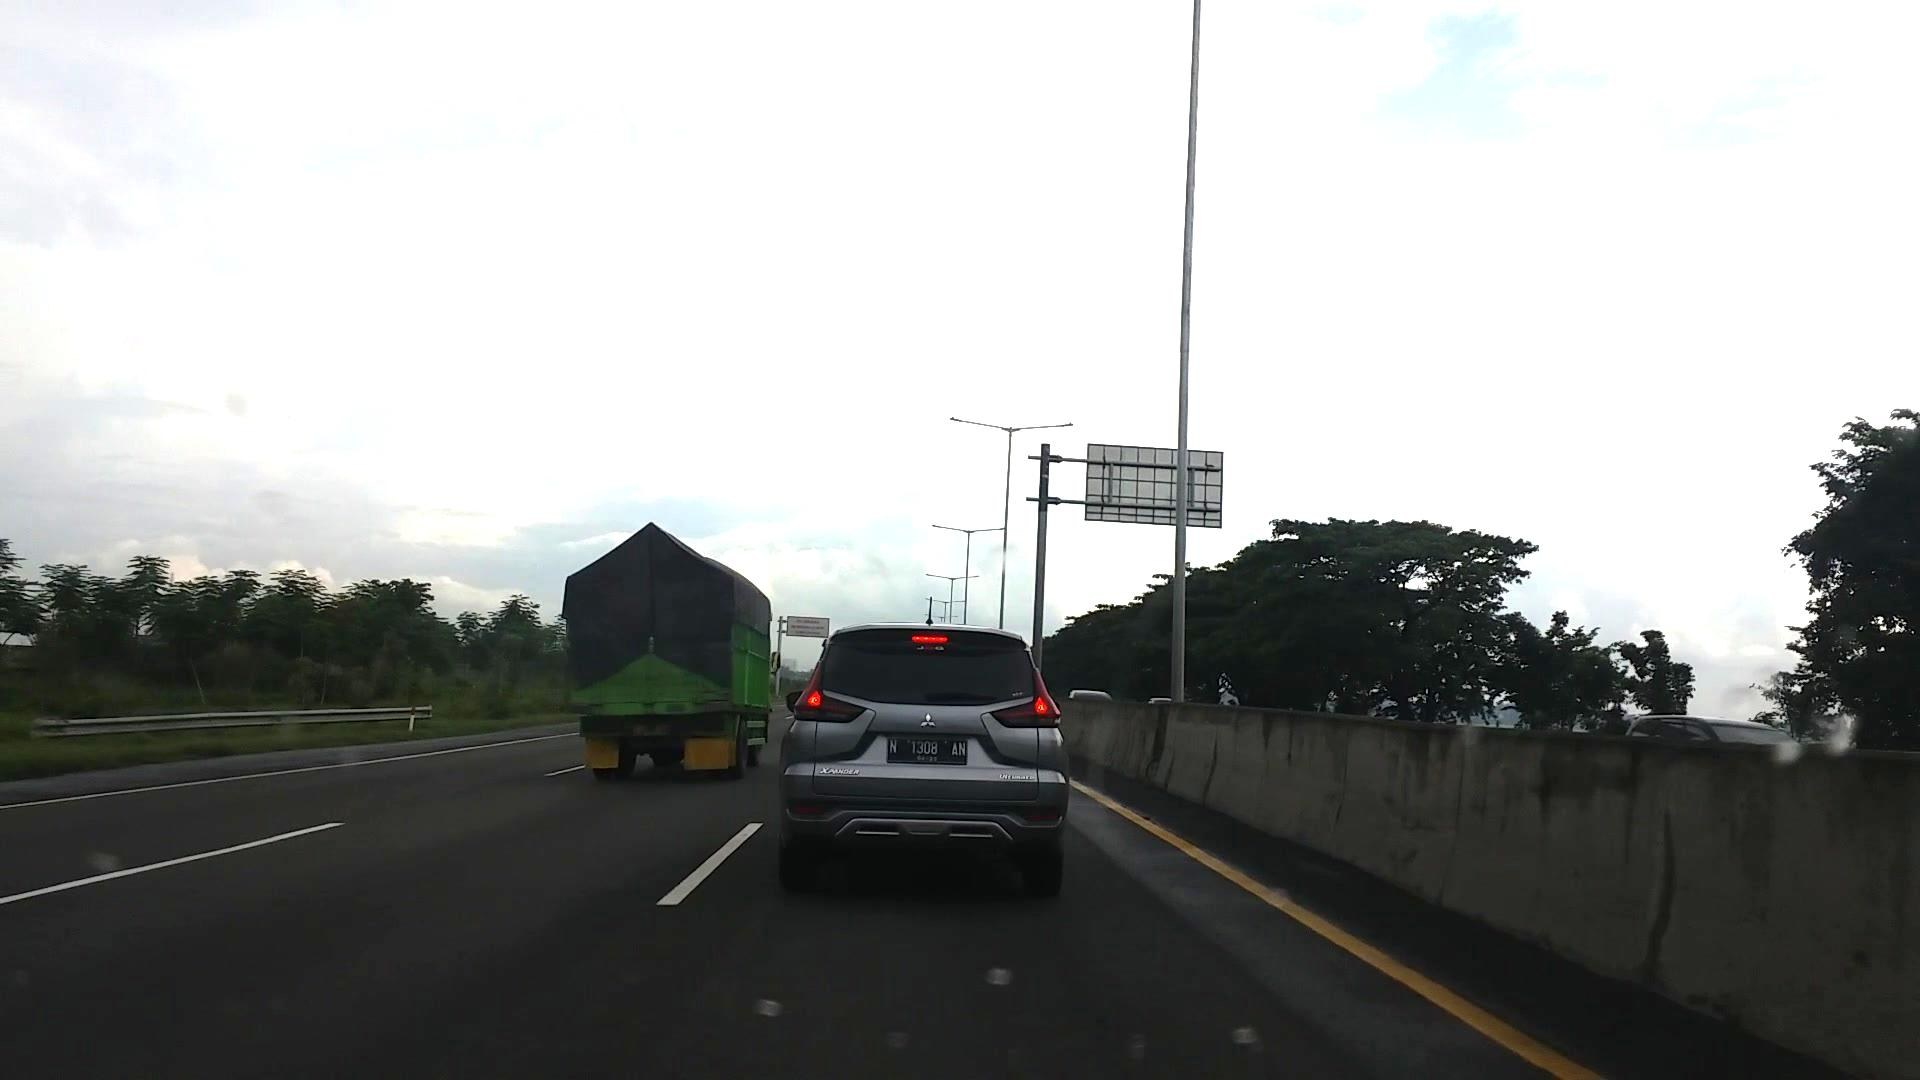plate_positive: (887, 738, 967, 765)
